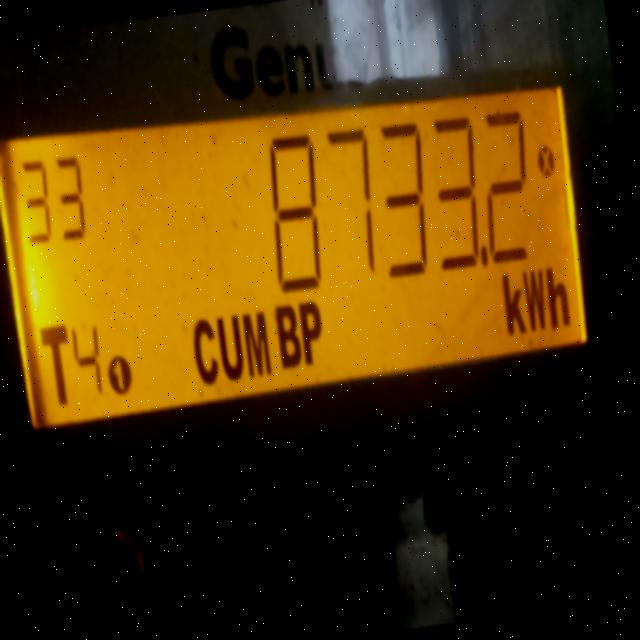.: (480, 248, 490, 269)
2: (474, 112, 541, 267)
3: (423, 116, 488, 273), (376, 118, 432, 282), (20, 155, 56, 245), (54, 157, 88, 239)
7: (324, 125, 382, 277)
8: (262, 137, 326, 292)
